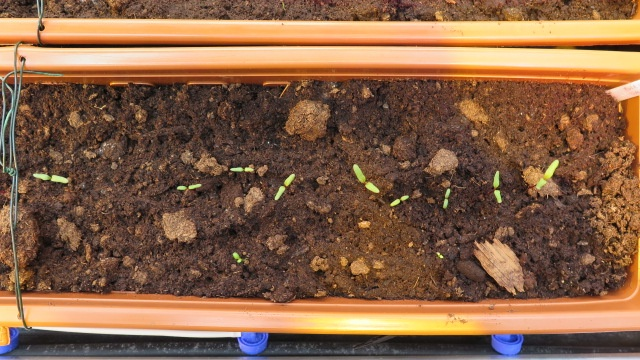crop: (352, 162, 383, 194), (531, 157, 560, 191), (271, 172, 299, 202), (488, 168, 505, 206), (29, 172, 72, 185), (438, 186, 455, 210), (385, 194, 412, 208), (224, 165, 257, 174), (173, 182, 204, 191)
weed: (230, 251, 245, 264)
